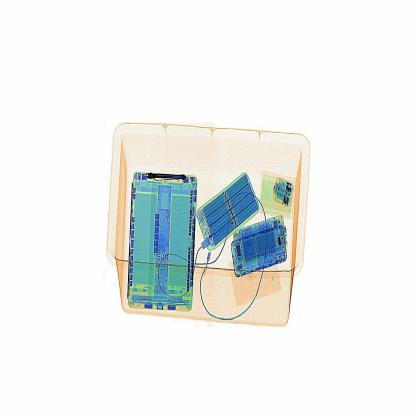knife: (139, 164, 191, 189)
